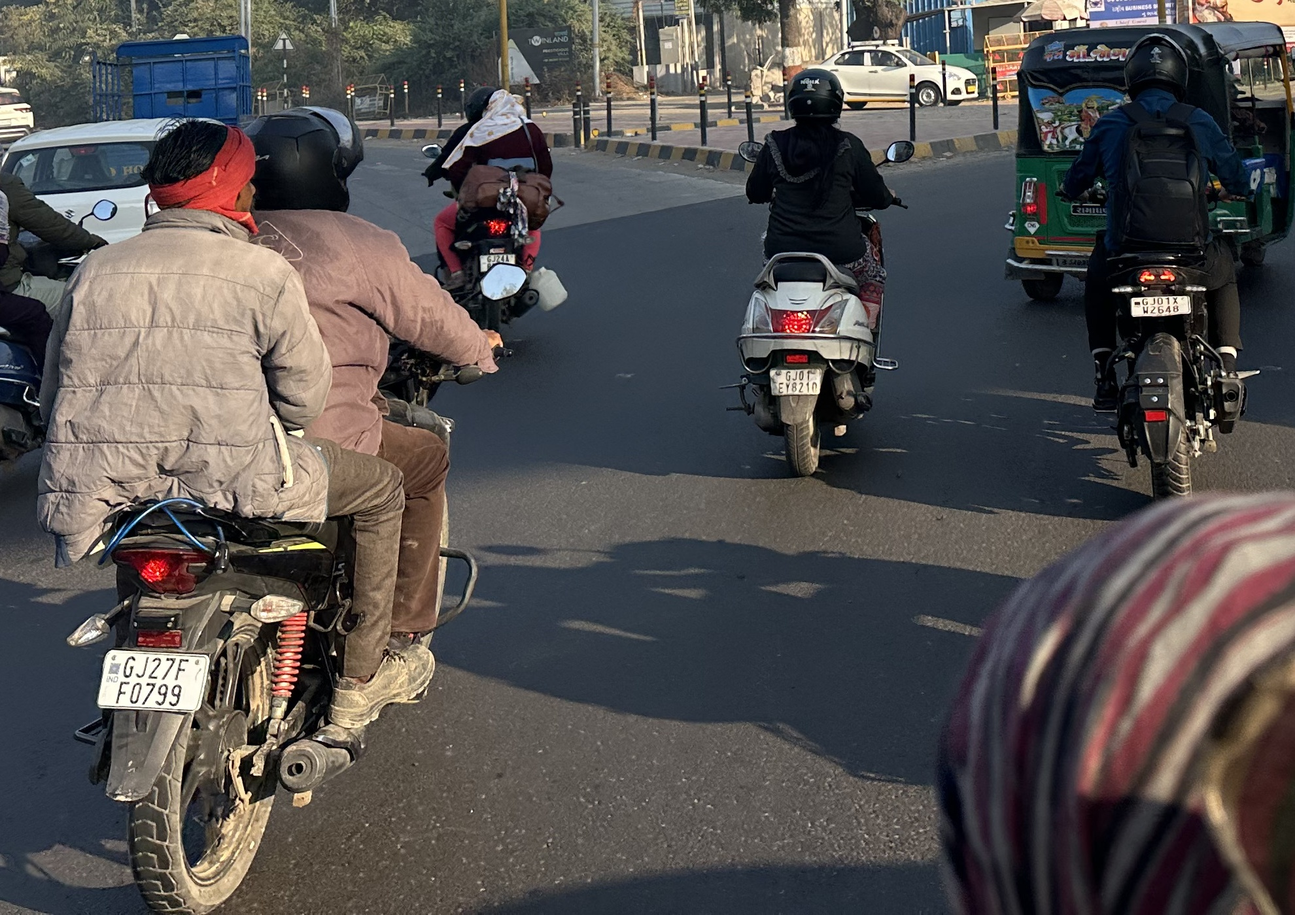BikeWithRider: (24, 99, 511, 915), (1047, 26, 1269, 533), (710, 56, 925, 484), (410, 76, 586, 346)
Helmet: (237, 105, 370, 227), (1114, 29, 1196, 109), (779, 61, 849, 135), (461, 86, 492, 130)
NoHelmet: (134, 108, 262, 243), (481, 86, 528, 125)
